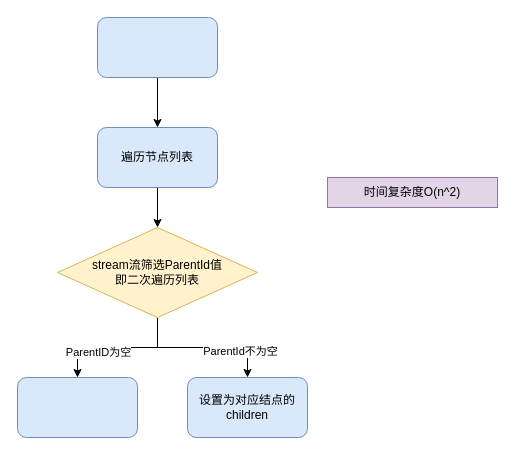
Image size: 515x455. Some labels were removed from this diagram. Each missing label, with the centre of its shape:
根据指标任务id查出所有项目组成节点信息: the point at 157,47
设置为根节点: the point at 77,407
